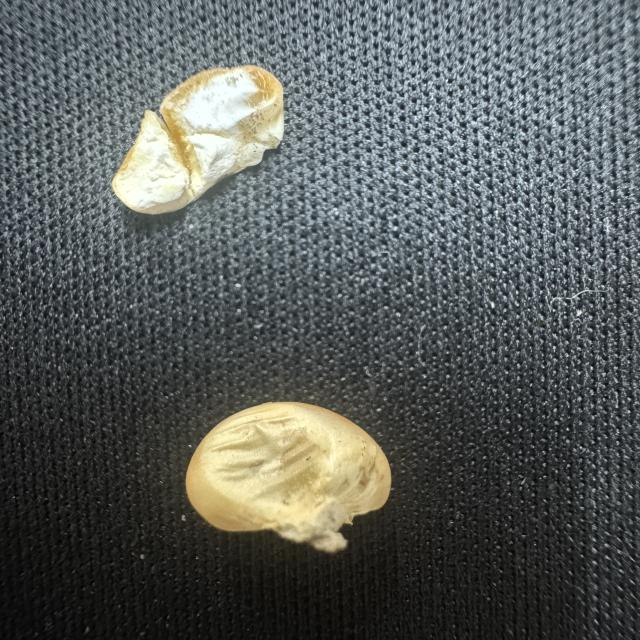Bad-Seed: (165, 389, 394, 573), (90, 59, 302, 232)
